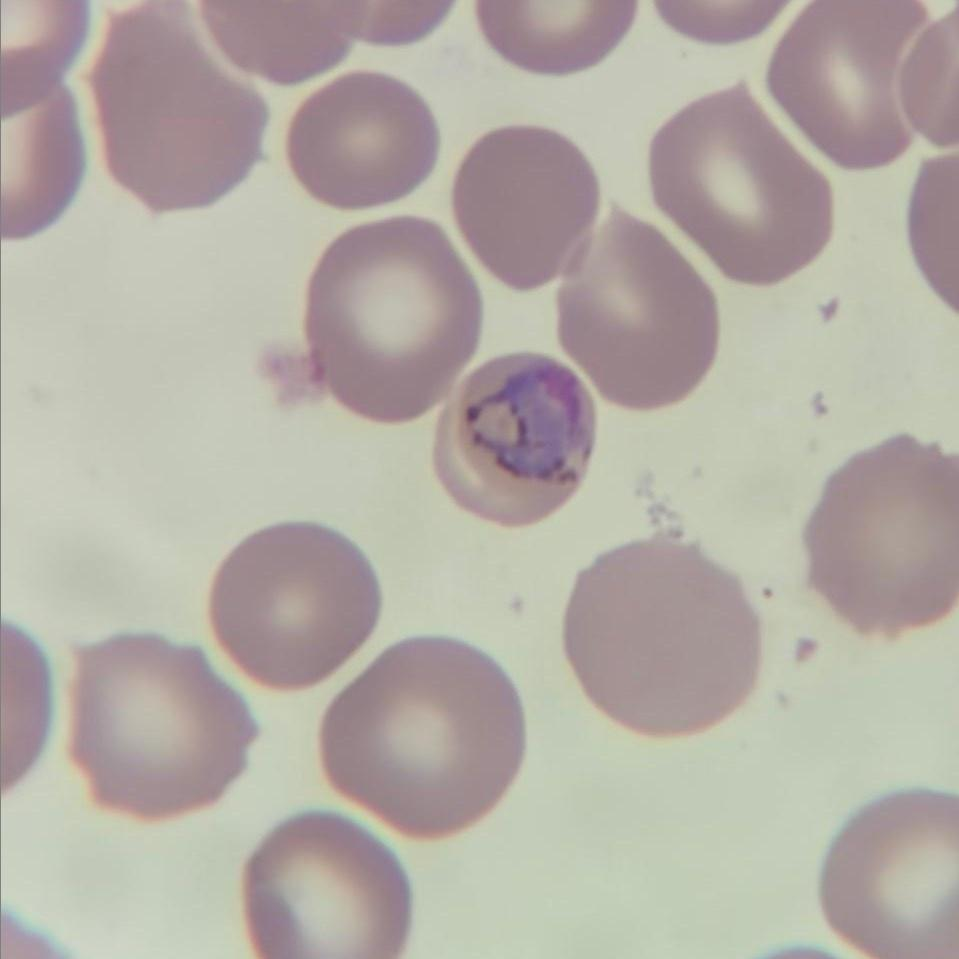Infected: (430, 353, 597, 525)
Uninfected: (322, 631, 525, 833), (558, 541, 755, 735), (307, 213, 482, 425), (65, 633, 255, 825), (648, 83, 828, 279), (97, 8, 267, 213), (557, 198, 717, 413), (762, 0, 937, 176), (210, 523, 380, 688), (815, 436, 959, 630), (815, 781, 959, 957), (450, 123, 603, 286), (240, 818, 407, 959), (285, 71, 443, 204)
